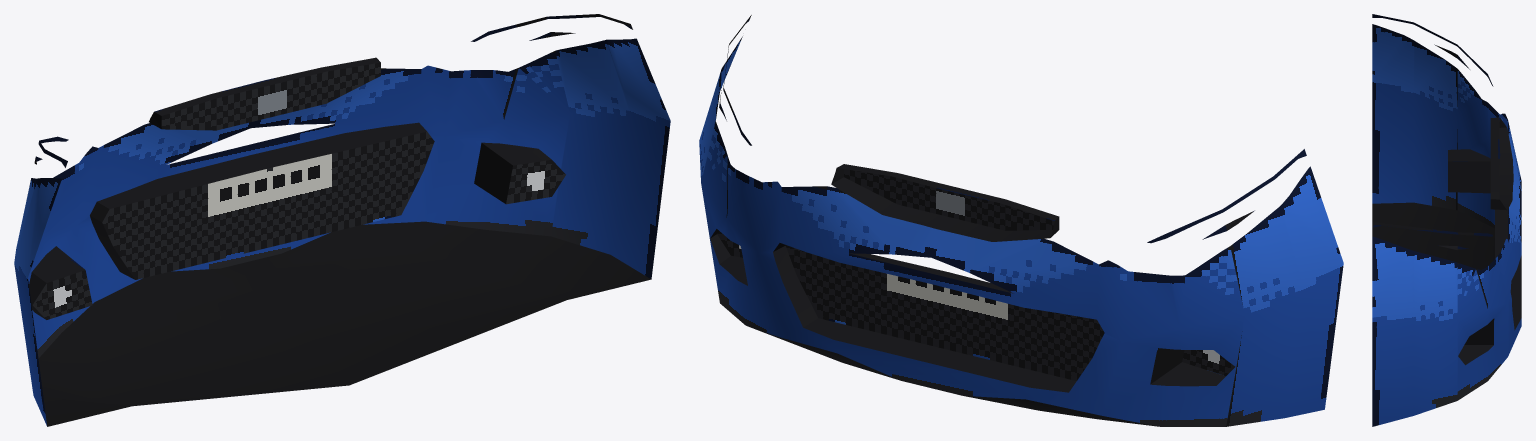
Rendered from bumper_F_stock.glb.
The picture shows the model from 3 angles, left to right: view 1: azimuth 30°, elevation 25°; view 2: azimuth 150°, elevation 25°; view 3: azimuth 270°, elevation 25°; orthographic projection. The views are drawn at different scales.
Visible parts, largest first — view 1: bumper_F_stock; view 2: bumper_F_stock; view 3: bumper_F_stock.
Boxes of the visible parts, x1=… form: bumper_F_stock: x1=14, y1=14, x2=670, y2=426; bumper_F_stock: x1=699, y1=15, x2=1343, y2=426; bumper_F_stock: x1=1372, y1=14, x2=1521, y2=426.
Size of the model in its own units: 1.67 by 0.7274 by 0.443.
1 material, 1 textured.
